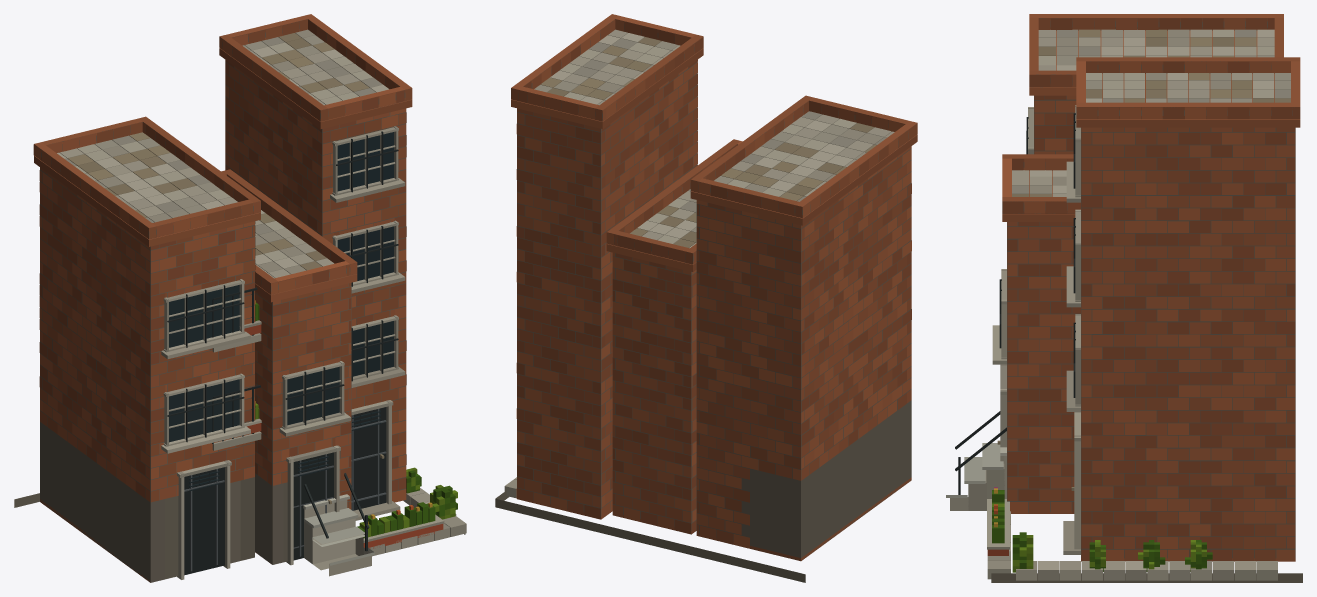
File: SM_StreetFrontage_111.fbx
3 views of the same model, side by side, from view 1: azimuth 30°, elevation 25°; view 2: azimuth 150°, elevation 25°; view 3: azimuth 270°, elevation 25° (orthographic). The views are drawn at different scales.
Visible parts, largest first — view 1: SM_StreetFrontage_111; view 2: SM_StreetFrontage_111; view 3: SM_StreetFrontage_111.
Part boxes in pixels (x1,y1,x2,y2): SM_StreetFrontage_111: (14, 14, 466, 582); SM_StreetFrontage_111: (495, 14, 917, 582); SM_StreetFrontage_111: (946, 14, 1302, 582).
Size of the model in its own units: 7.95 by 7.02 by 10.16.
